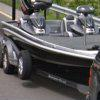Boat: (1, 10, 100, 83)
